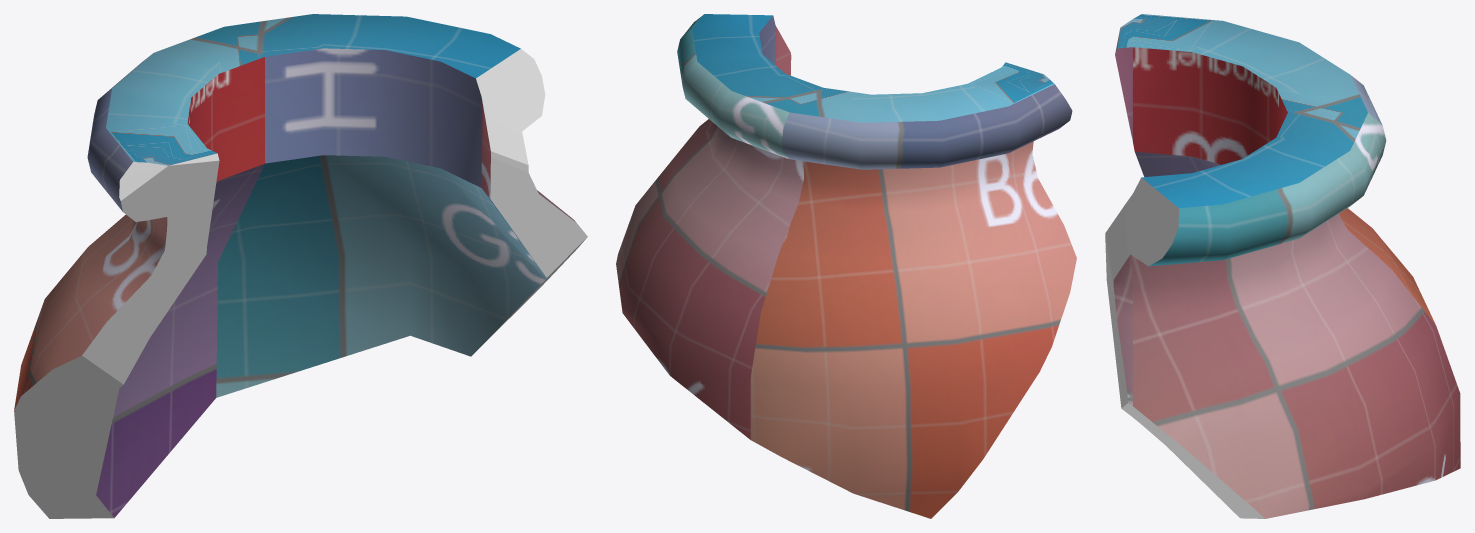
File: RoundVase_SHAT_cell_021.fbx
3 views of the same model, side by side, from view 1: azimuth 30°, elevation 25°; view 2: azimuth 150°, elevation 25°; view 3: azimuth 270°, elevation 25° (orthographic). The views are drawn at different scales.
Parts seen in each view (by area): view 1: RoundVase_SHAT_cell_021; view 2: RoundVase_SHAT_cell_021; view 3: RoundVase_SHAT_cell_021.
Boxes of the visible parts, x1=… form: RoundVase_SHAT_cell_021: x1=14, y1=14, x2=587, y2=518; RoundVase_SHAT_cell_021: x1=616, y1=14, x2=1076, y2=518; RoundVase_SHAT_cell_021: x1=1105, y1=14, x2=1460, y2=518.
Bounding box in the file's own units: 0.7258 × 0.5942 × 0.4338.
2 materials, 1 textured.
